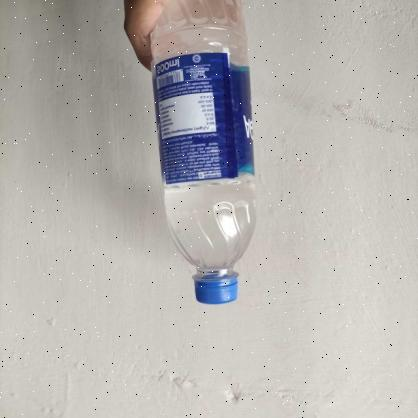bottle: (149, 0, 262, 307)
cap: (191, 267, 242, 305)
label: (154, 51, 262, 184)
